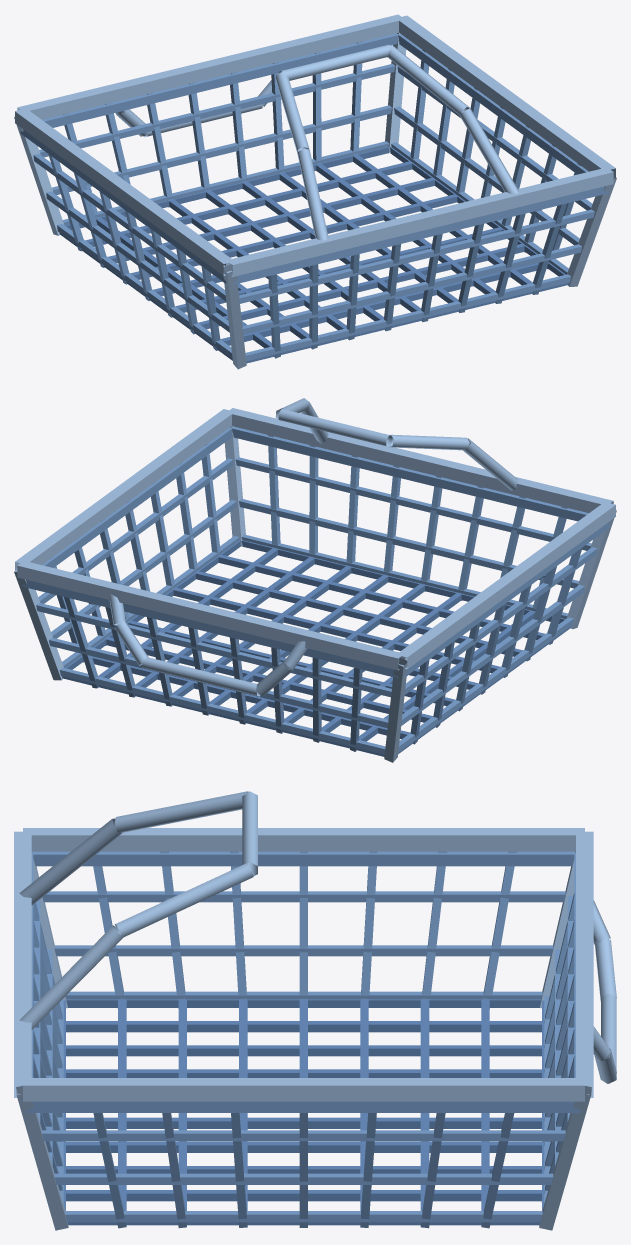
File: Prop_ShopBasket.fbx
3 views of the same model, one above another, from view 1: azimuth 30°, elevation 25°; view 2: azimuth 150°, elevation 25°; view 3: azimuth 270°, elevation 25° (orthographic). The views are drawn at different scales.
Parts seen in each view (by area): view 1: Prop_ShopBasket; view 2: Prop_ShopBasket; view 3: Prop_ShopBasket.
Part boxes in pixels (x1=…): Prop_ShopBasket: x1=14, y1=14, x2=616, y2=369; Prop_ShopBasket: x1=14, y1=398, x2=616, y2=762; Prop_ShopBasket: x1=14, y1=791, x2=616, y2=1230.
Bounding box in the file's own units: 2.04 × 1.08 × 2.02.
